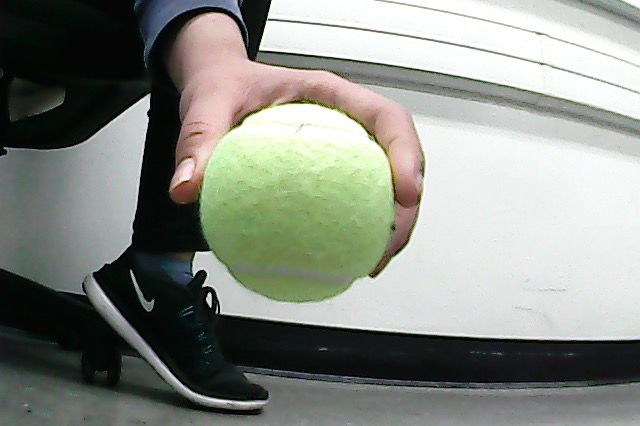ball: (196, 102, 399, 305)
